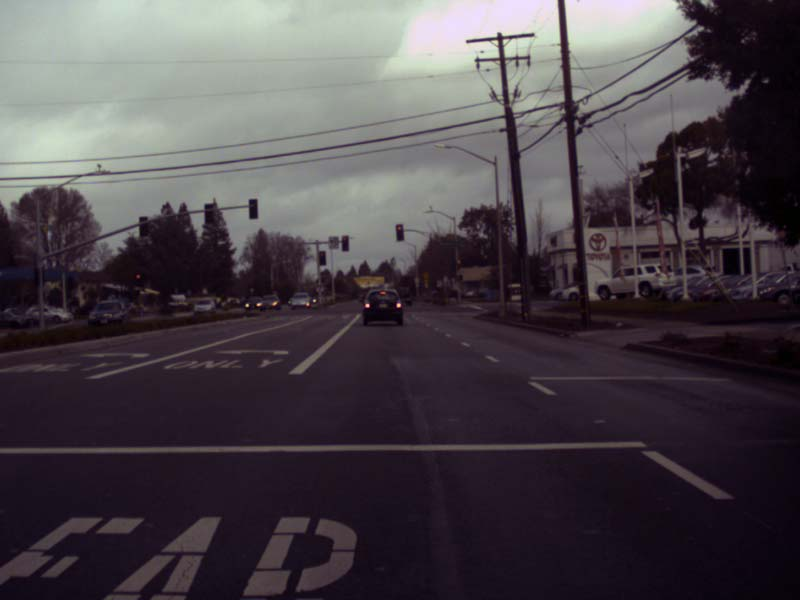Red: (395, 224, 405, 240), (318, 249, 327, 265), (341, 235, 349, 250), (135, 273, 141, 285), (457, 260, 460, 270)
